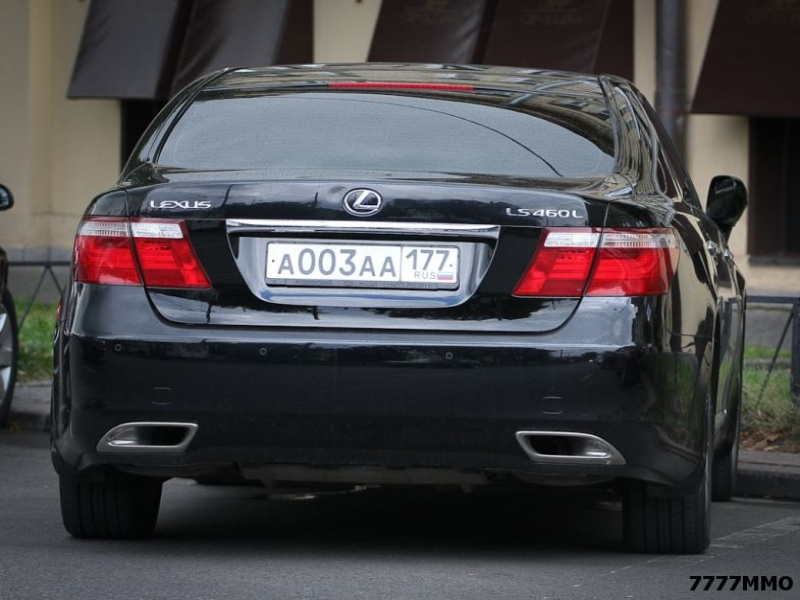car: (51, 62, 749, 556)
plate: (266, 242, 458, 281)
